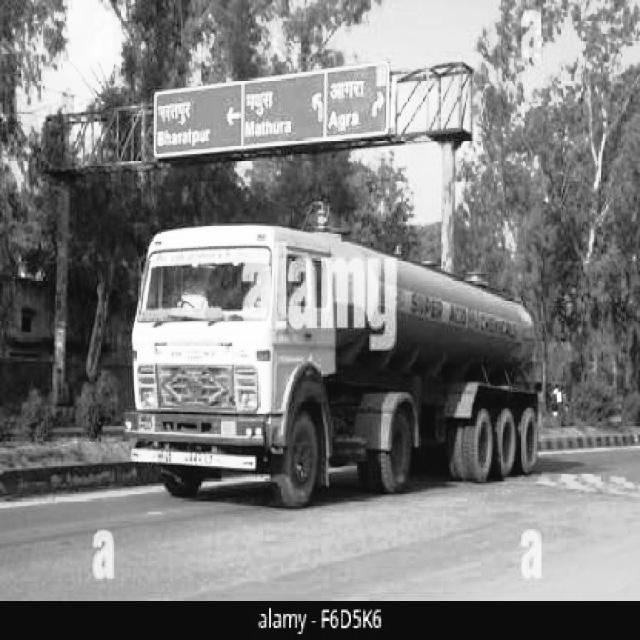HCV: (127, 234, 526, 484)
